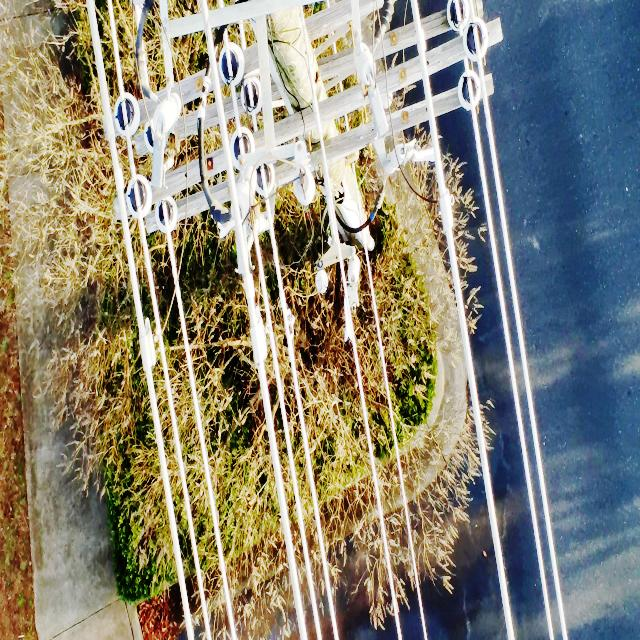poles: (132, 0, 502, 291)
wires: (200, 0, 338, 640), (87, 0, 211, 640), (460, 0, 568, 640), (321, 140, 402, 640), (411, 0, 482, 441), (169, 243, 237, 640), (146, 369, 194, 640), (480, 444, 498, 540), (499, 564, 512, 640)
